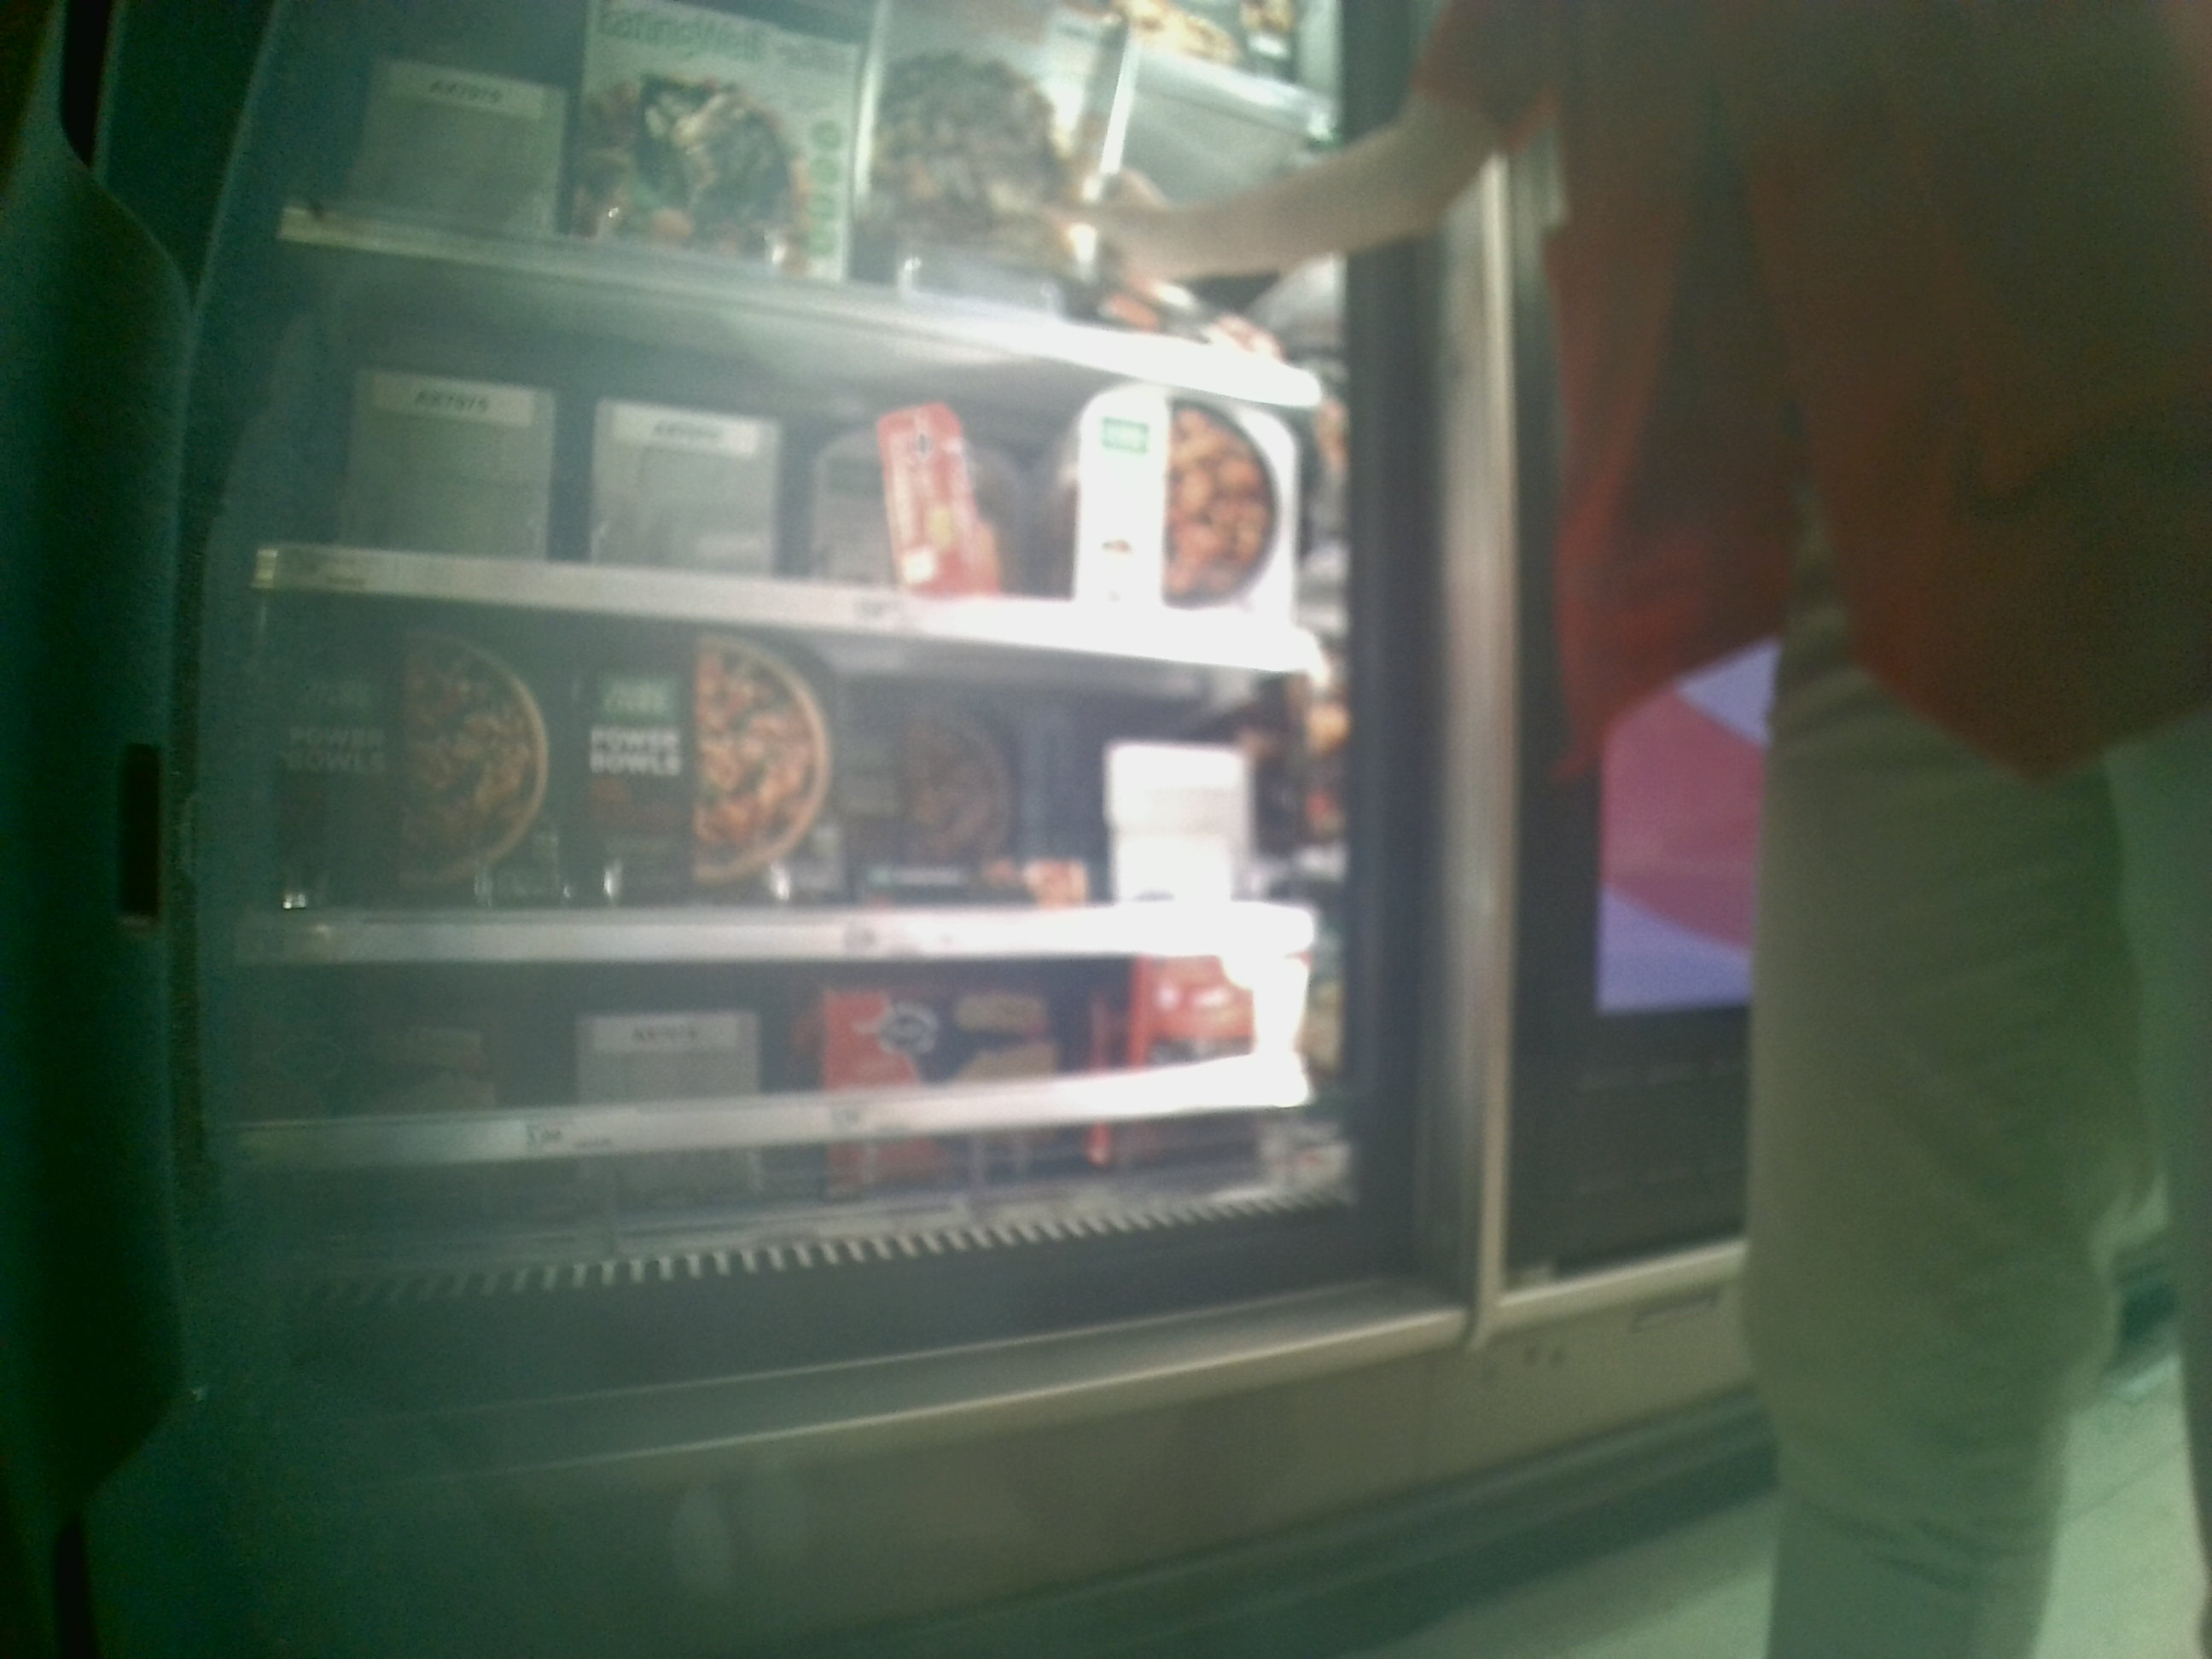shelf: (254, 579, 1343, 962), (218, 969, 1378, 1310)
